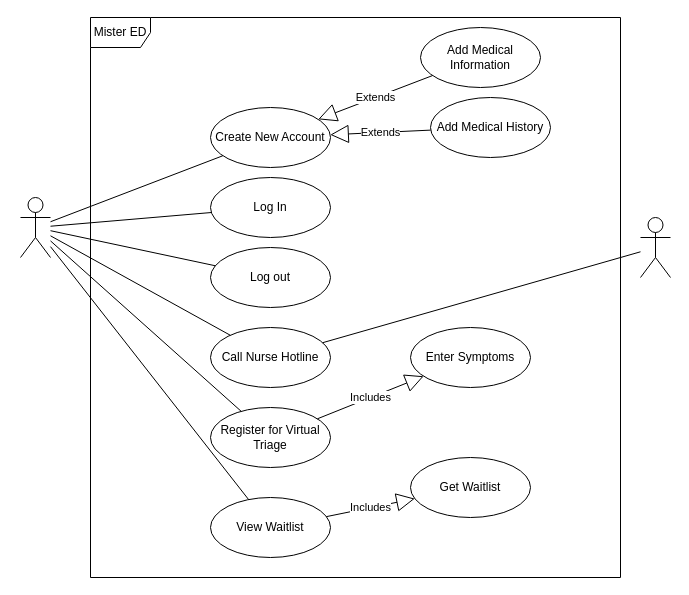
The diagram is 689 pixels wide and 595 high, and some of its shapes have lost their labels. The centre of each missing label's shape, as x and y in pixels:
"Nurse" belongs at pixel 655 247.
"Patient" belongs at pixel 35 227.
